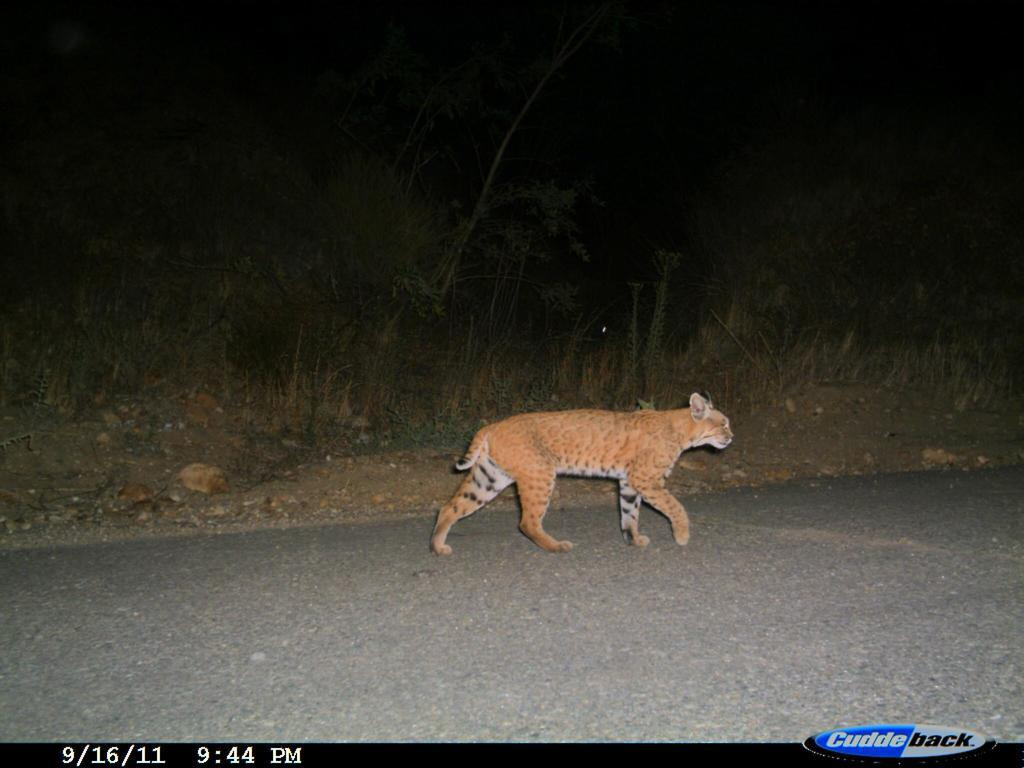bobcat: (427, 387, 739, 561)
